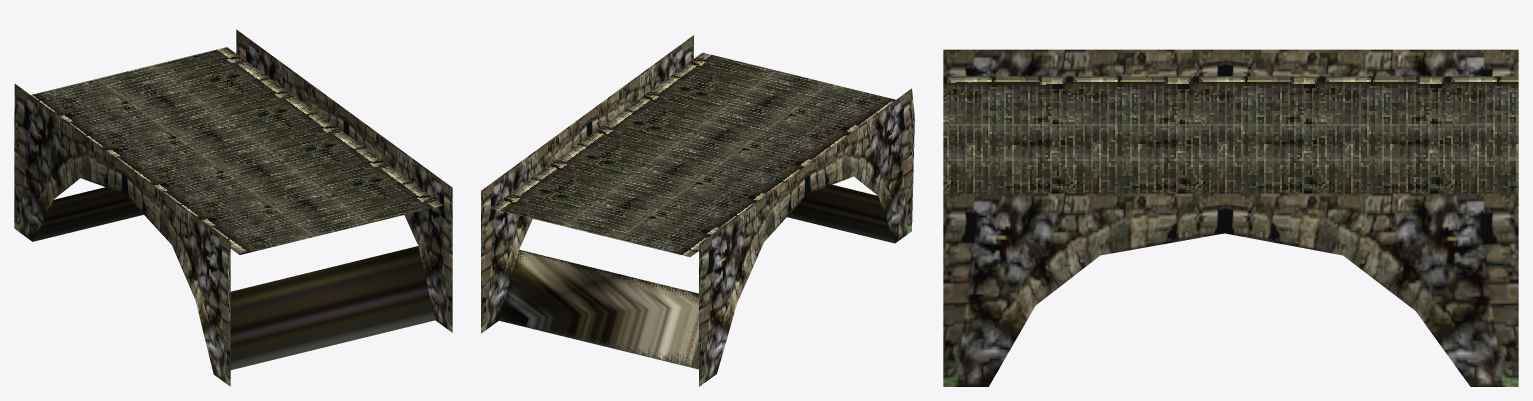
Rendered from Civilian - Civilian Building - Great Wall Large Arch - Damaged - CMWalChna3_D.glb.
3 renders of one model, left to right at view 1: azimuth 30°, elevation 25°; view 2: azimuth 150°, elevation 25°; view 3: azimuth 270°, elevation 25°, orthographic. The views are drawn at different scales.
Parts seen in each view (by area): view 1: CMWALCHNA3_D; view 2: CMWALCHNA3_D; view 3: CMWALCHNA3_D.
Boxes of the visible parts, x1,y1,x2,y2 form: CMWALCHNA3_D: [14, 29, 452, 386]; CMWALCHNA3_D: [481, 35, 914, 386]; CMWALCHNA3_D: [943, 49, 1518, 386].
Size of the model in its own units: 59.75 by 43.6 by 99.21.
Materials: 4 (4 with a texture image).
